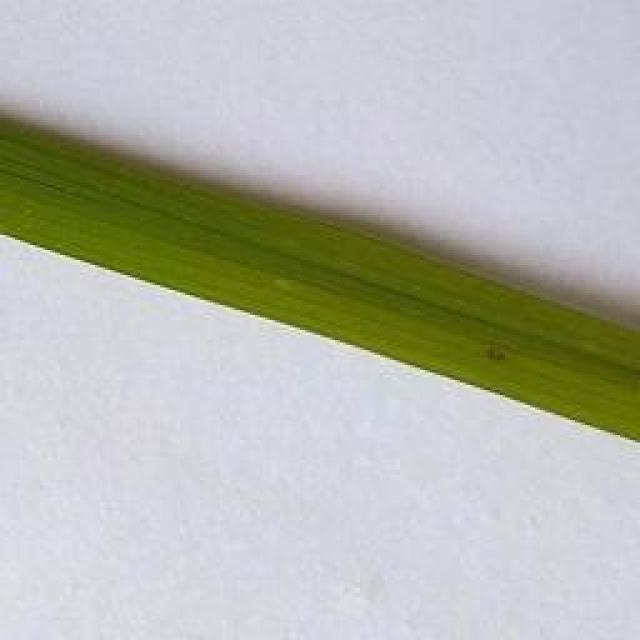Unhealthy: (478, 345, 510, 366)
